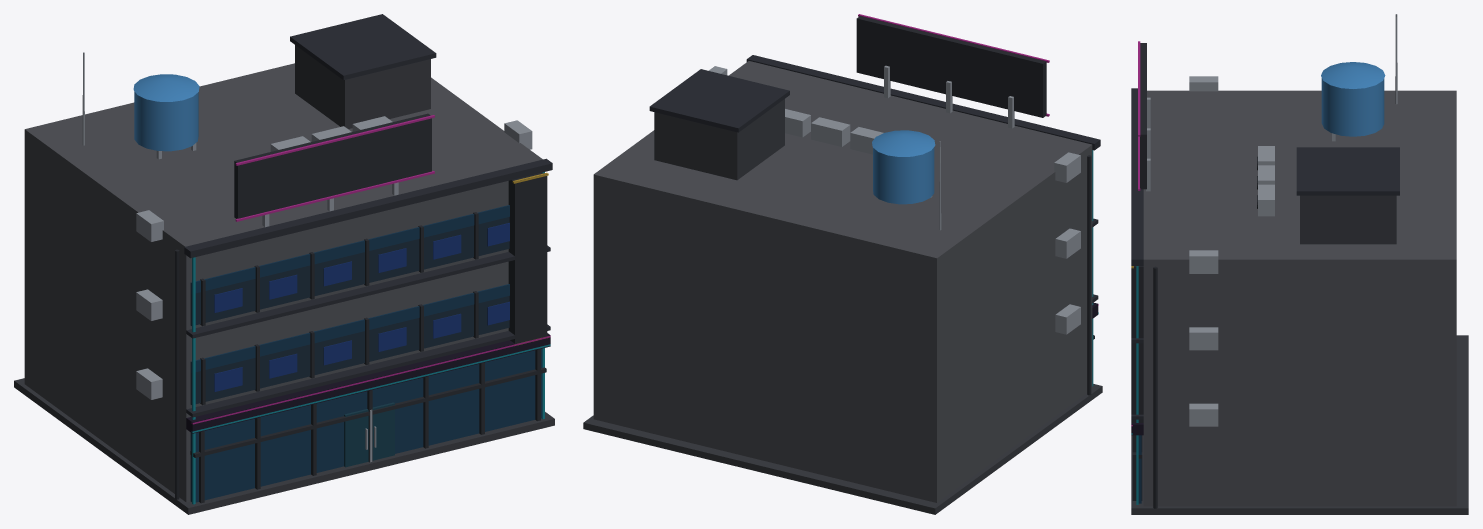
File: town-cyberia.glb
3 renders of one model, left to right at view 1: azimuth 30°, elevation 25°; view 2: azimuth 150°, elevation 25°; view 3: azimuth 270°, elevation 25°, orthographic. The views are drawn at different scales.
Visible parts, largest first — view 1: concrete1, glowInside2, steel27, glass12, glass17, concreteDark33, steel24, concreteDark0, tile34, awning9, tile22, glowInside13 (+16 smaller); view 2: concrete1, steel27, concreteDark0, concreteDark33, tile34, tank35, tile22, tank36, steel42_mx, steelLight38_2, steelLight41_mx_3, steelLight41_mx_2 (+3 smaller); view 3: concrete1, concreteDark0, tile34, concreteDark33, tank35, steel24, tile22, tank36, steel42, steel27, steelLight41_3, steelLight41_1 (+5 smaller).
Boxes of the visible parts, <box> form: concrete1: <box>24,63,542,502</box>; glowInside2: <box>190,348,542,502</box>; steel27: <box>234,113,431,218</box>; glass12: <box>190,296,509,404</box>; glass17: <box>190,217,509,325</box>; concreteDark33: <box>295,45,430,128</box>; steel24: <box>508,172,547,344</box>; concreteDark0: <box>14,378,554,514</box>; tile34: <box>290,14,436,80</box>; awning9: <box>186,333,550,433</box>; tile22: <box>184,158,552,258</box>; glowInside13: <box>191,284,509,372</box>; concrete1: <box>593,61,1092,502</box>; steel27: <box>856,16,1046,117</box>; concreteDark0: <box>583,384,1102,514</box>; concreteDark33: <box>654,99,784,180</box>; tile34: <box>649,69,789,132</box>; tank35: <box>873,147,934,204</box>; tile22: <box>746,55,1100,150</box>; tank36: <box>872,130,935,156</box>; steel42_mx: <box>1087,155,1091,395</box>; steelLight38_2: <box>811,117,850,146</box>; steelLight41_mx_3: <box>1054,152,1080,182</box>; steelLight41_mx_2: <box>1055,228,1080,258</box>; concrete1: <box>1143,90,1456,506</box>; concreteDark0: <box>1131,335,1468,514</box>; tile34: <box>1296,147,1399,195</box>; concreteDark33: <box>1300,195,1396,244</box>; tank35: <box>1321,78,1384,136</box>; steel24: <box>1131,266,1143,422</box>; tile22: <box>1131,88,1143,265</box>; tank36: <box>1321,62,1385,88</box>; steel42: <box>1153,266,1157,508</box>; steel27: <box>1140,43,1146,189</box>; steelLight41_3: <box>1189,250,1218,273</box>; steelLight41_1: <box>1189,403,1218,426</box>.
Size of the model in its own units: 17.68 by 15.7 by 14.01.
